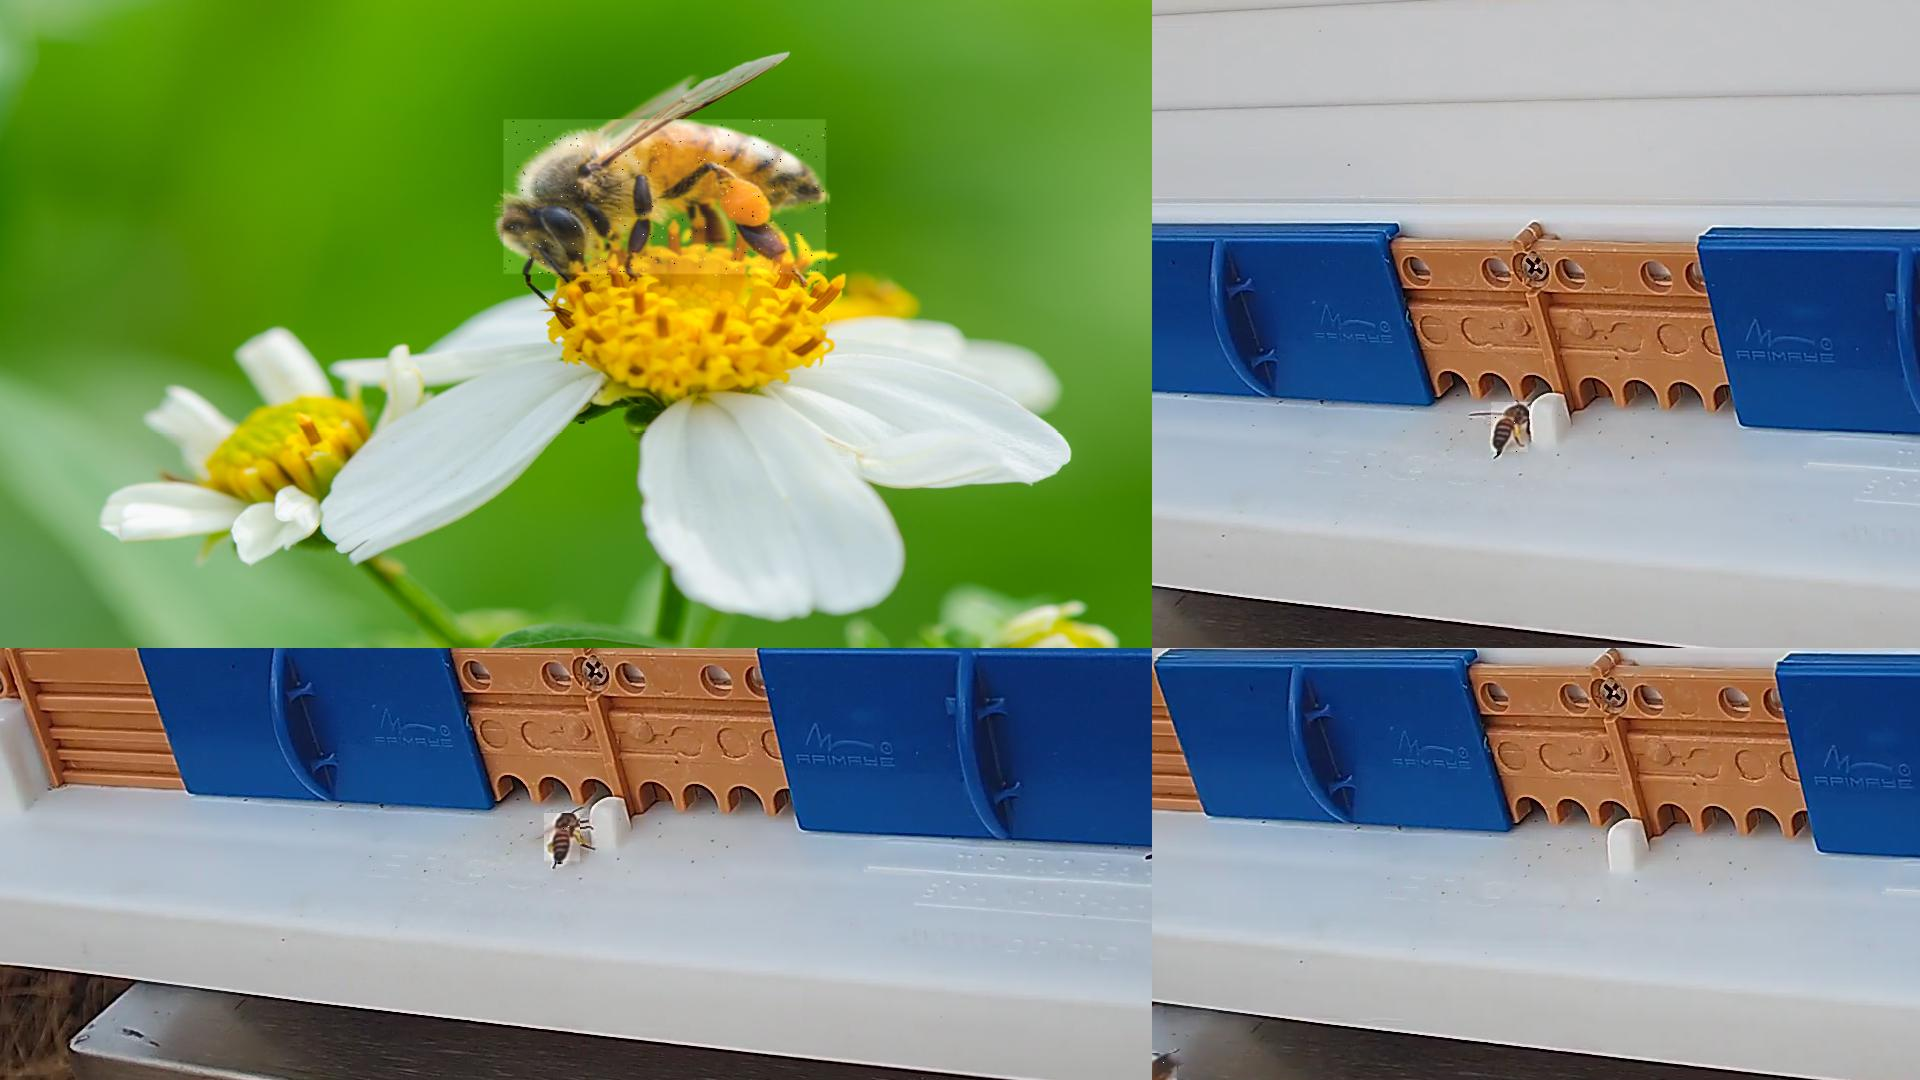pollenbee: (505, 120, 831, 277), (1491, 402, 1528, 454), (545, 814, 582, 865), (1153, 1054, 1179, 1079)
